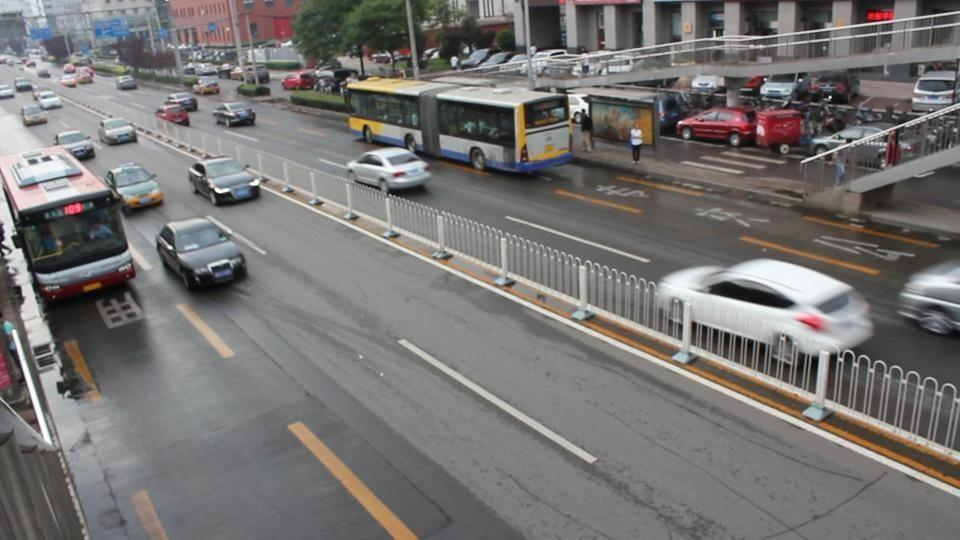car: (654, 257, 875, 360), (156, 216, 247, 291), (897, 262, 960, 337), (345, 147, 434, 193), (187, 155, 261, 206), (804, 125, 889, 163), (676, 107, 758, 146), (758, 74, 853, 105), (105, 163, 165, 212), (911, 67, 960, 113), (453, 49, 526, 71), (53, 129, 97, 162), (96, 116, 137, 146), (213, 103, 257, 128), (281, 71, 318, 90), (19, 104, 49, 127)
